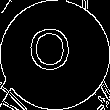O_S: (32, 28, 78, 82)
